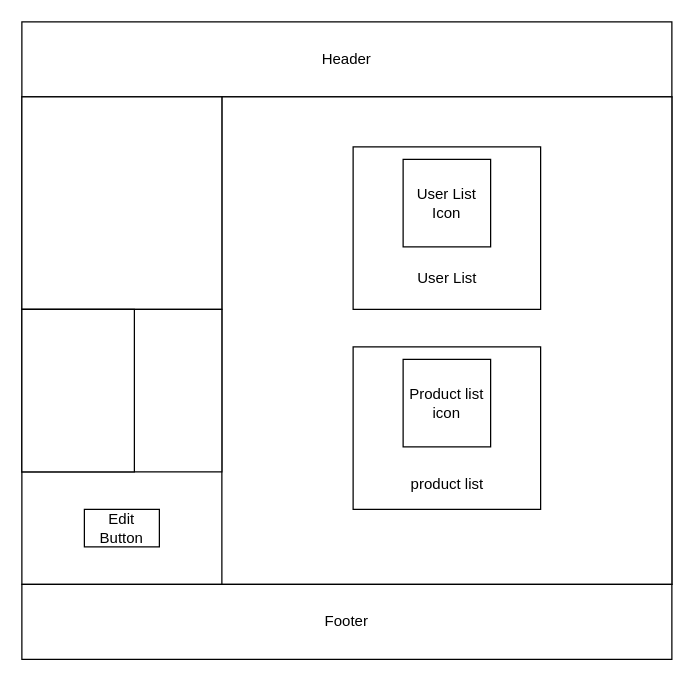
This 694x681 diagram has some shape labels left out. Each missing label, with the centre of its shape:
Avatar: (121,202)
Name Username: ID Phone Number: (77,390)
